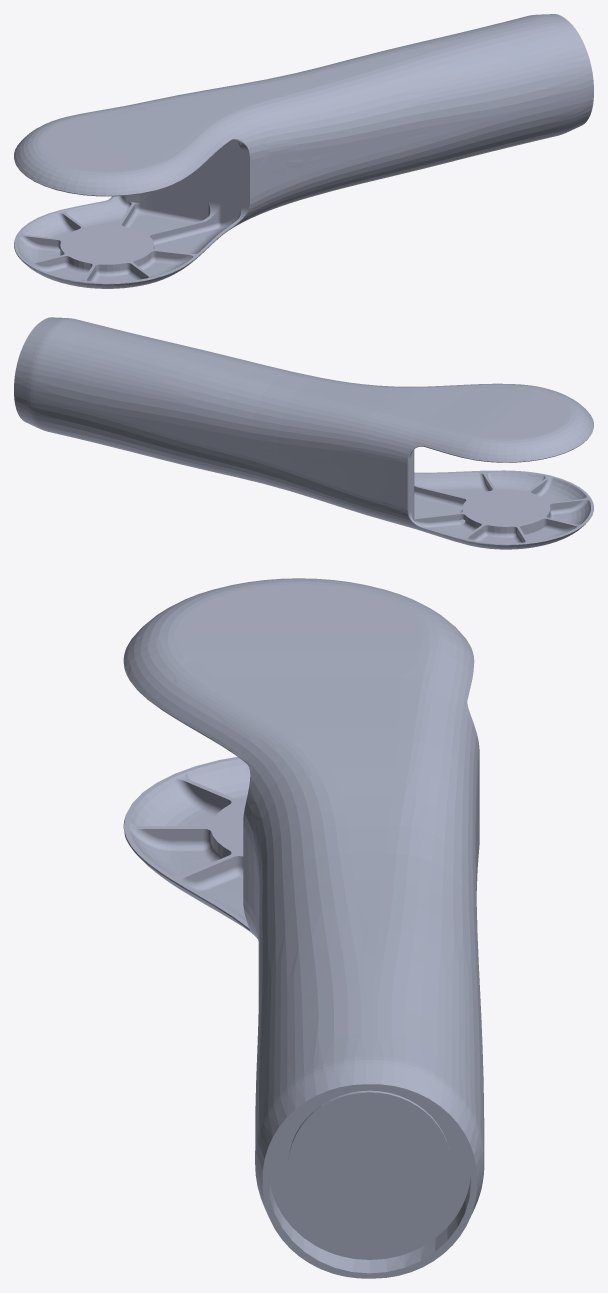
Rendered from right_elbow_link.obj.
3 renders of one model, top to bottom at view 1: azimuth 30°, elevation 25°; view 2: azimuth 150°, elevation 25°; view 3: azimuth 270°, elevation 25°, orthographic. The views are drawn at different scales.
Visible parts, largest first — view 1: right_elbow_link-mesh; view 2: right_elbow_link-mesh; view 3: right_elbow_link-mesh.
Boxes of the visible parts, bbox=[...] form: right_elbow_link-mesh: bbox=[14, 14, 593, 288]; right_elbow_link-mesh: bbox=[14, 317, 593, 549]; right_elbow_link-mesh: bbox=[123, 578, 484, 1278].
Bounding box in the file's own units: 0.3158 × 0.062 × 0.0942.
